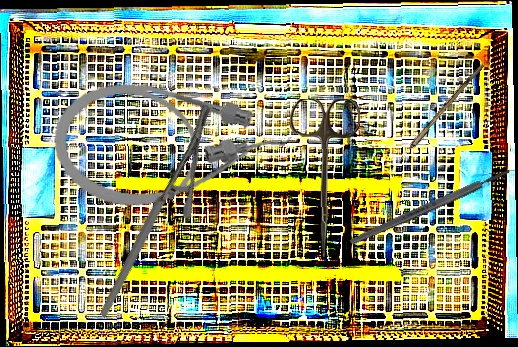Cannula: (46, 73, 291, 225)
Iris Scissors: (289, 98, 363, 258)
Needle Holder: (45, 103, 264, 318)
Scalpel Handle: (347, 165, 513, 248)
Surgical Spoon: (385, 61, 485, 178)
